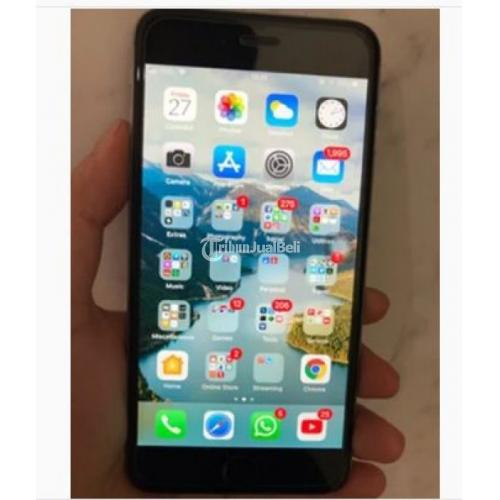Handphone: (126, 7, 387, 500)
